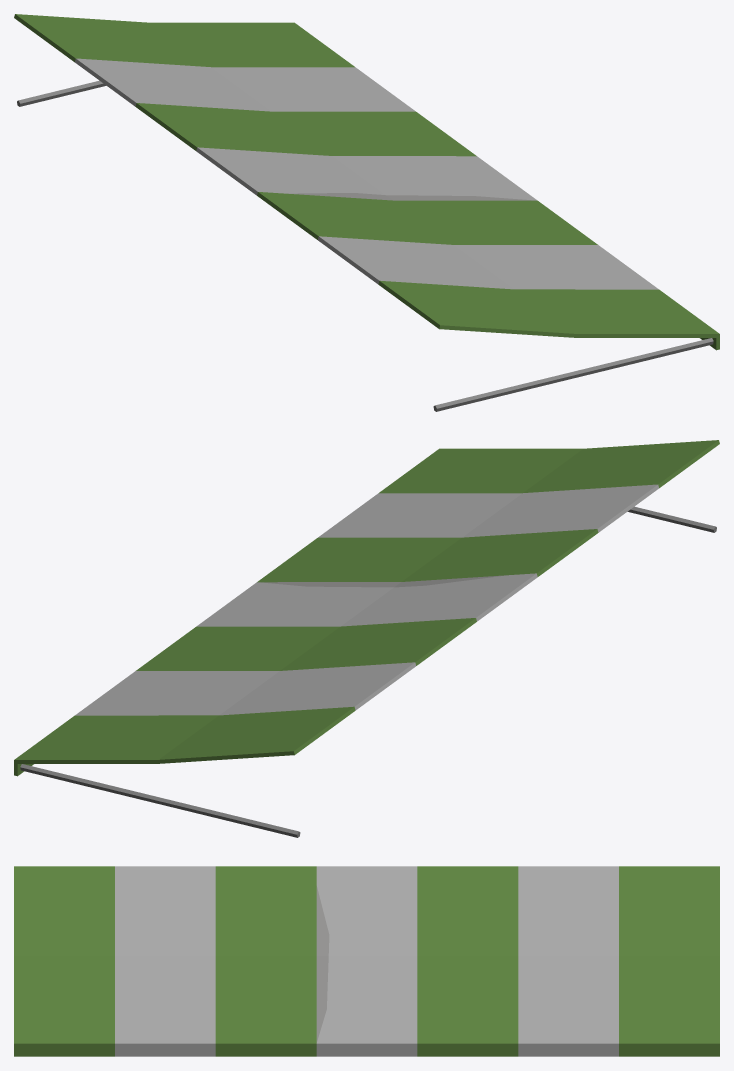
The model's file is SM_Props_Desert_MobileHome_Tent.fbx.
3 renders of one model, top to bottom at view 1: azimuth 30°, elevation 25°; view 2: azimuth 150°, elevation 25°; view 3: azimuth 270°, elevation 25°, orthographic. The views are drawn at different scales.
Visible parts, largest first — view 1: SM_Props_Desert_MobileHome_Tent; view 2: SM_Props_Desert_MobileHome_Tent; view 3: SM_Props_Desert_MobileHome_Tent.
Part boxes in pixels (x1,y1,x2,y2): SM_Props_Desert_MobileHome_Tent: (14, 14, 719, 411); SM_Props_Desert_MobileHome_Tent: (14, 440, 719, 837); SM_Props_Desert_MobileHome_Tent: (14, 866, 719, 1056).
Size of the model in its own units: 191 by 60 by 500.
